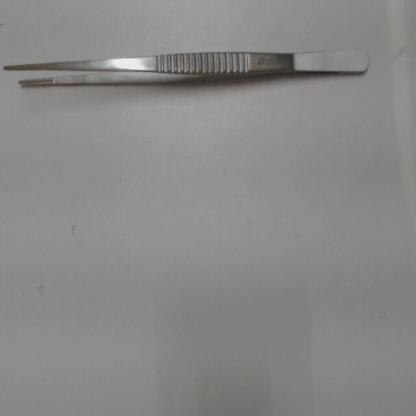DeBakey Dissector: (2, 37, 382, 96)
